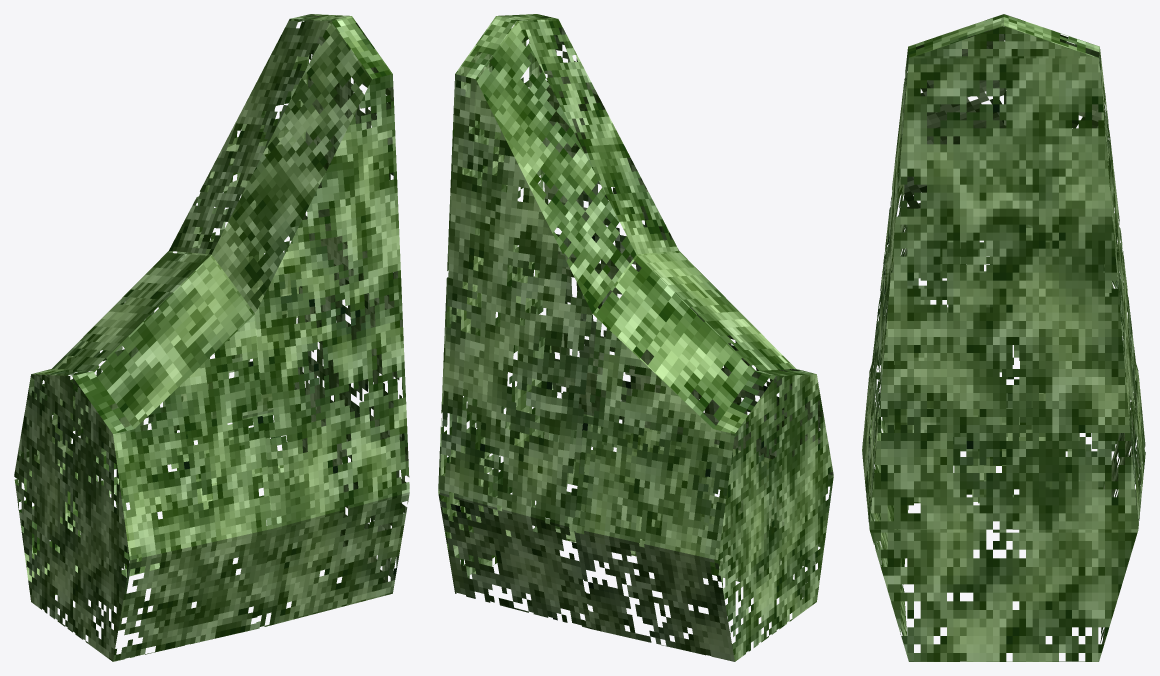
File: bush_connector_ornamental_half_summer.glb
3 renders of one model, left to right at view 1: azimuth 30°, elevation 25°; view 2: azimuth 150°, elevation 25°; view 3: azimuth 270°, elevation 25°, orthographic. The views are drawn at different scales.
Parts seen in each view (by area): view 1: bush_connector_ornamental_half_summer; view 2: bush_connector_ornamental_half_summer; view 3: bush_connector_ornamental_half_summer.
Boxes of the visible parts, <box> form: bush_connector_ornamental_half_summer: <box>14,14,409,661</box>; bush_connector_ornamental_half_summer: <box>438,14,833,661</box>; bush_connector_ornamental_half_summer: <box>862,14,1145,661</box>.
Bounding box in the file's own units: 1 × 1.88 × 0.7592.
1 material, 1 textured.
